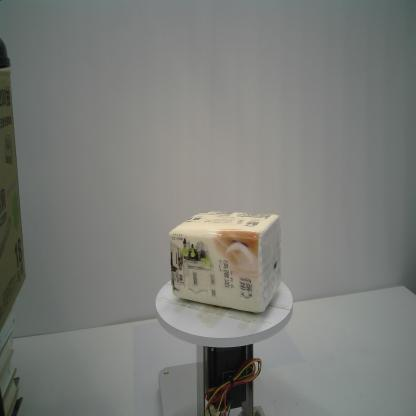Tissue: (168, 209, 284, 317)
